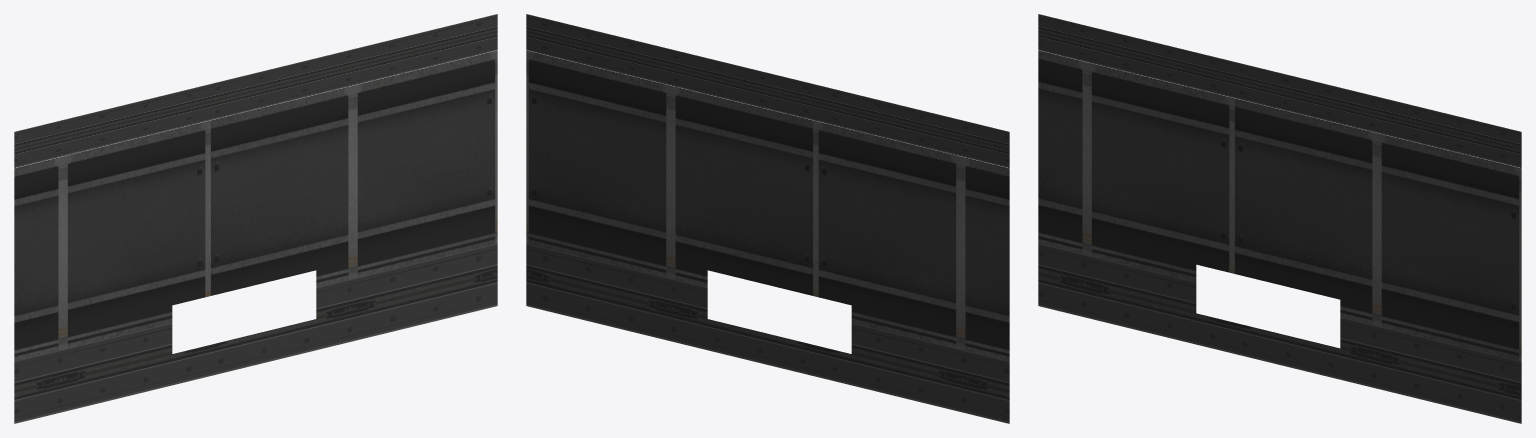
Rendered from Interior2.fbx.
3 renders of one model, left to right at view 1: azimuth 30°, elevation 25°; view 2: azimuth 150°, elevation 25°; view 3: azimuth 330°, elevation 25°, orthographic.
Visible parts, largest first — view 1: Plane.005; view 2: Plane.005; view 3: Plane.005.
Boxes of the visible parts, x1,y1,x2,y2 form: Plane.005: (14,14,497,423); Plane.005: (526,14,1009,423); Plane.005: (1038,14,1521,423).
Bounding box in the file's own units: 346 × 200 × 0.
